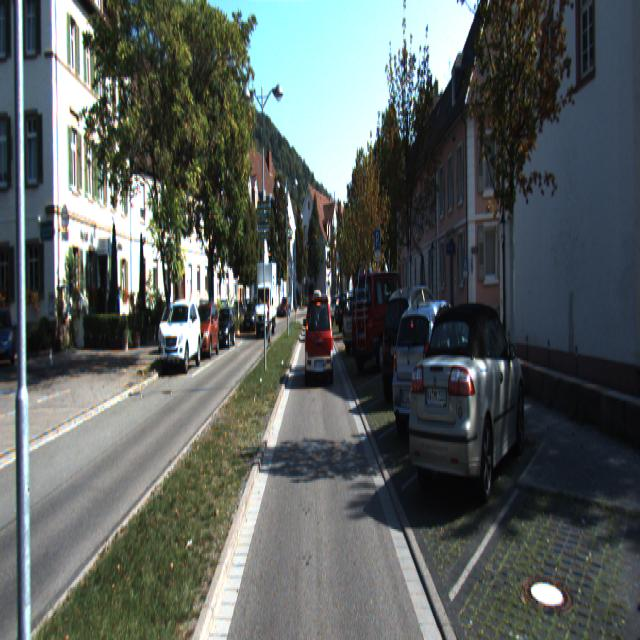Car: (407, 296, 528, 508), (389, 294, 479, 444), (381, 281, 452, 406), (160, 300, 202, 372), (342, 295, 388, 356), (306, 296, 335, 387), (191, 303, 220, 361), (334, 293, 364, 333), (158, 305, 182, 355), (213, 310, 236, 350), (0, 307, 16, 364), (243, 302, 260, 332)
DontCare: (278, 283, 292, 325)
Van: (349, 270, 412, 374), (254, 267, 278, 339)
